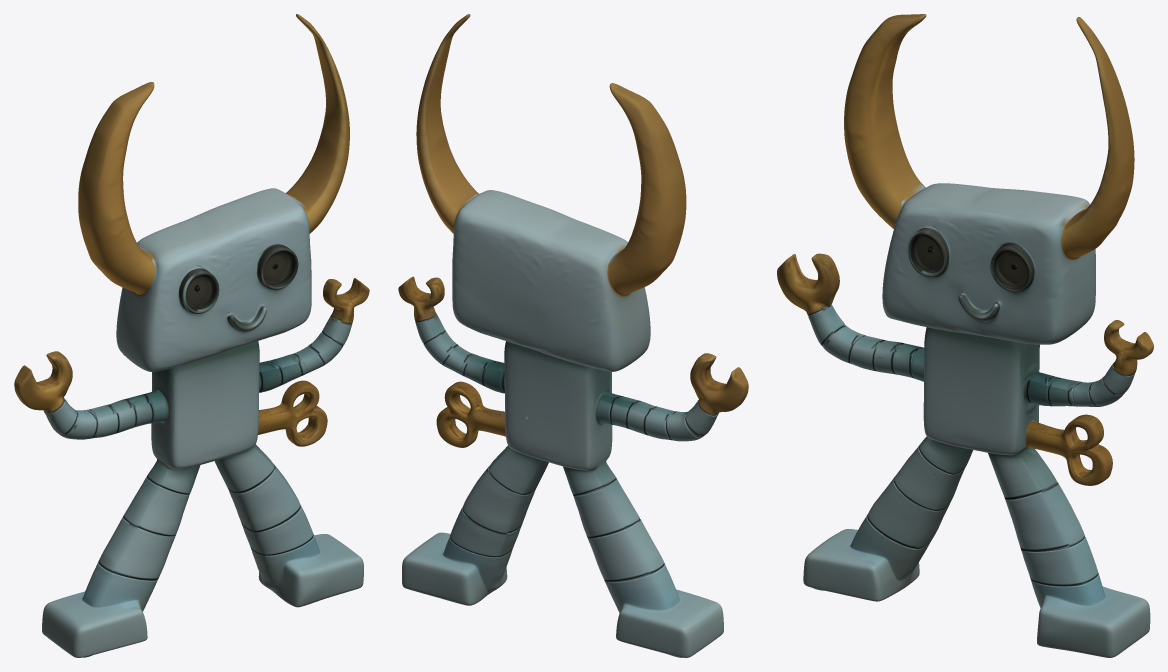
The model's file is robot.glb.
3 views of the same model, side by side, from view 1: azimuth 30°, elevation 25°; view 2: azimuth 150°, elevation 25°; view 3: azimuth 330°, elevation 25° (orthographic). The views are drawn at different scales.
Visible parts, largest first — view 1: node_0; view 2: node_0; view 3: node_0.
Boxes of the visible parts, x1,y1,x2,y2 form: node_0: (14, 14, 369, 657); node_0: (398, 14, 748, 657); node_0: (777, 14, 1153, 657).
Size of the model in its own units: 0.6676 by 1.05 by 0.1457.
Materials: 1 (1 with a texture image).
